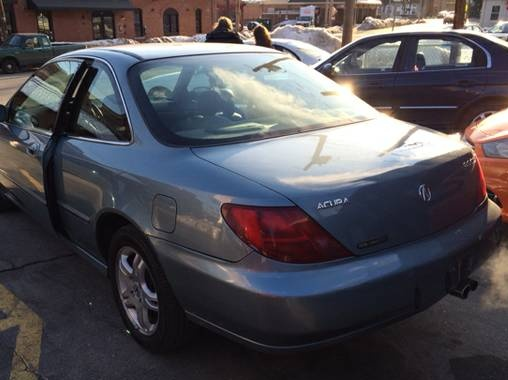acura: (1, 41, 507, 367)
